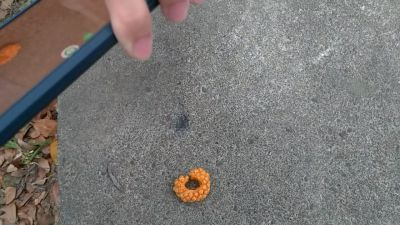eggs: (172, 168, 214, 206)
